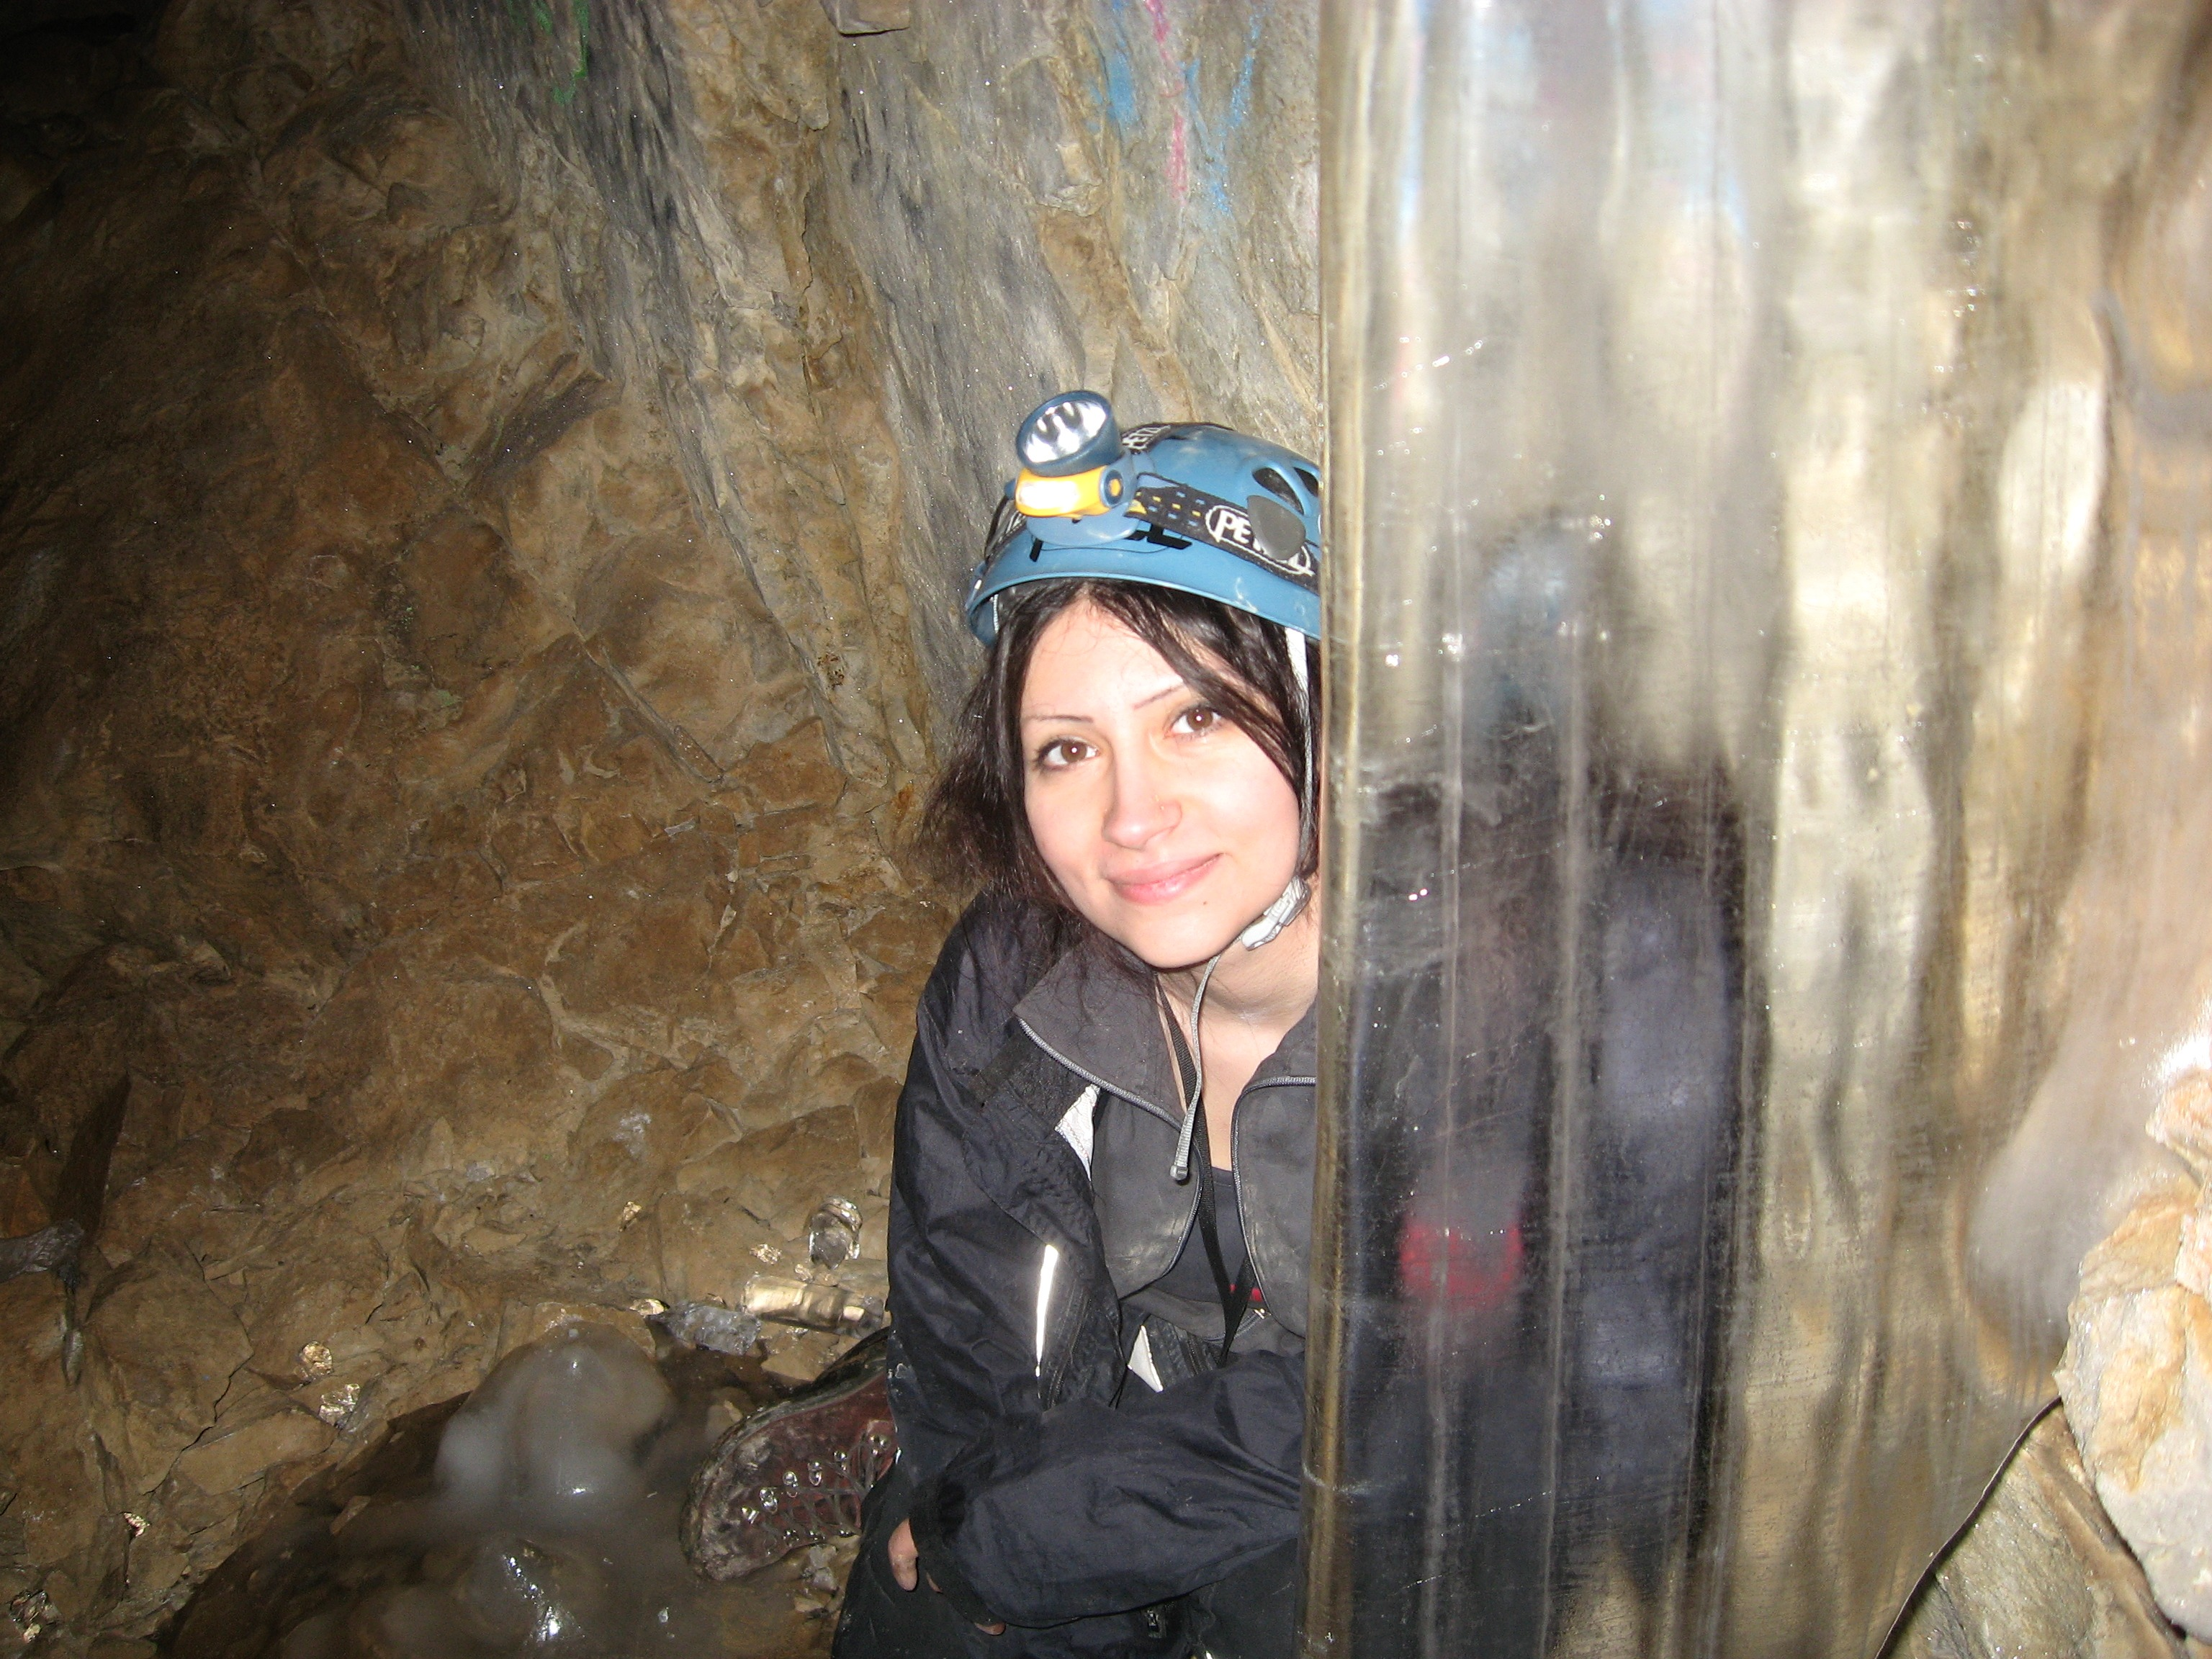helmet: (954, 411, 1366, 669)
